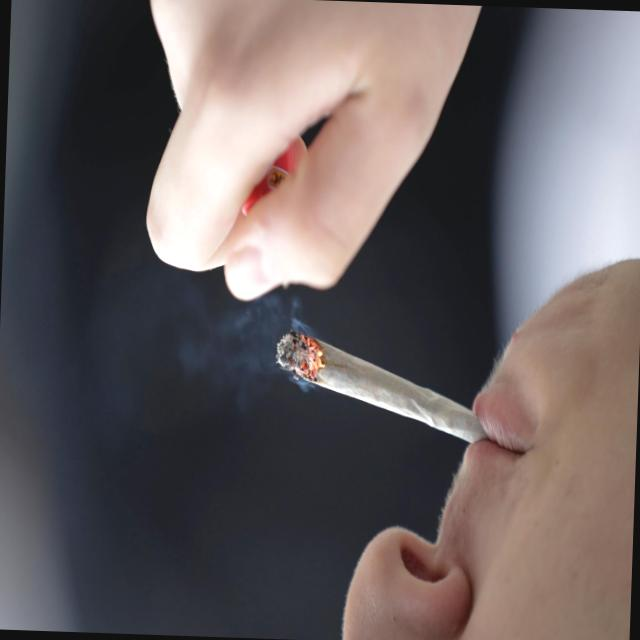smoke: (269, 326, 495, 444)
